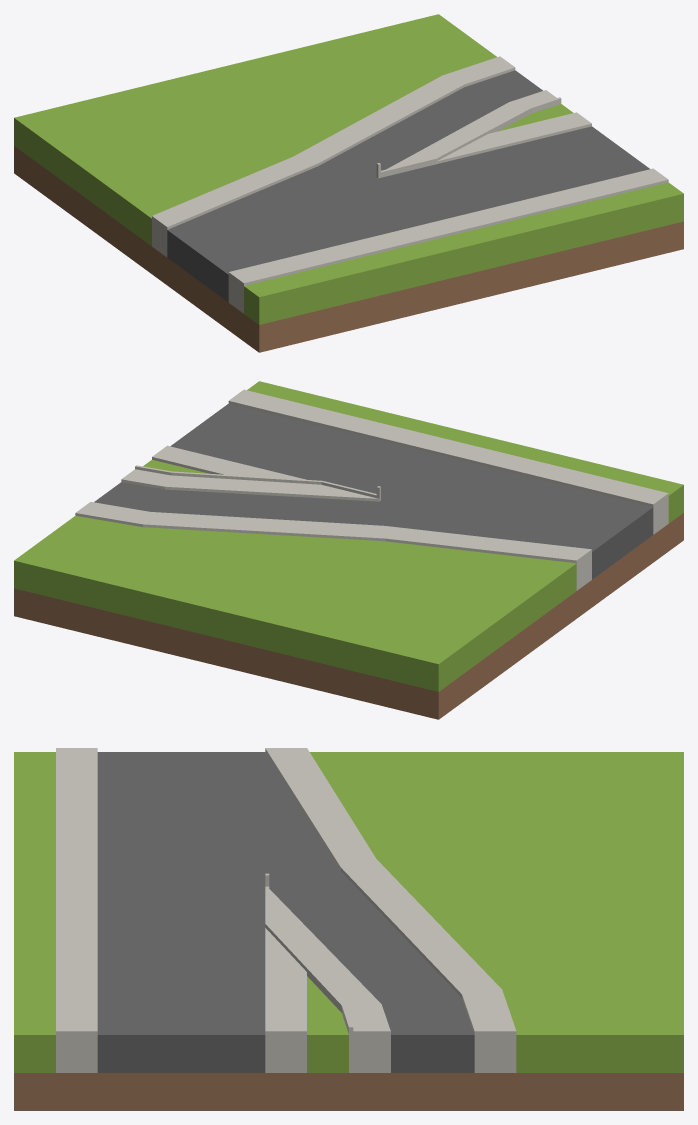
The model's file is track-pit-exit-large.obj.
3 renders of one model, top to bottom at view 1: azimuth 30°, elevation 25°; view 2: azimuth 150°, elevation 25°; view 3: azimuth 270°, elevation 25°, orthographic. The views are drawn at different scales.
Visible parts, largest first — view 1: track-pit-exit-large_Cube.030; view 2: track-pit-exit-large_Cube.030; view 3: track-pit-exit-large_Cube.030.
Part boxes in pixels (x1,y1,x2,y2): track-pit-exit-large_Cube.030: (14, 14, 683, 352); track-pit-exit-large_Cube.030: (14, 381, 683, 719); track-pit-exit-large_Cube.030: (14, 748, 683, 1110).
Bounding box in the file's own units: 16 × 2.5 × 16.
Materials: 1 (1 with a texture image).
